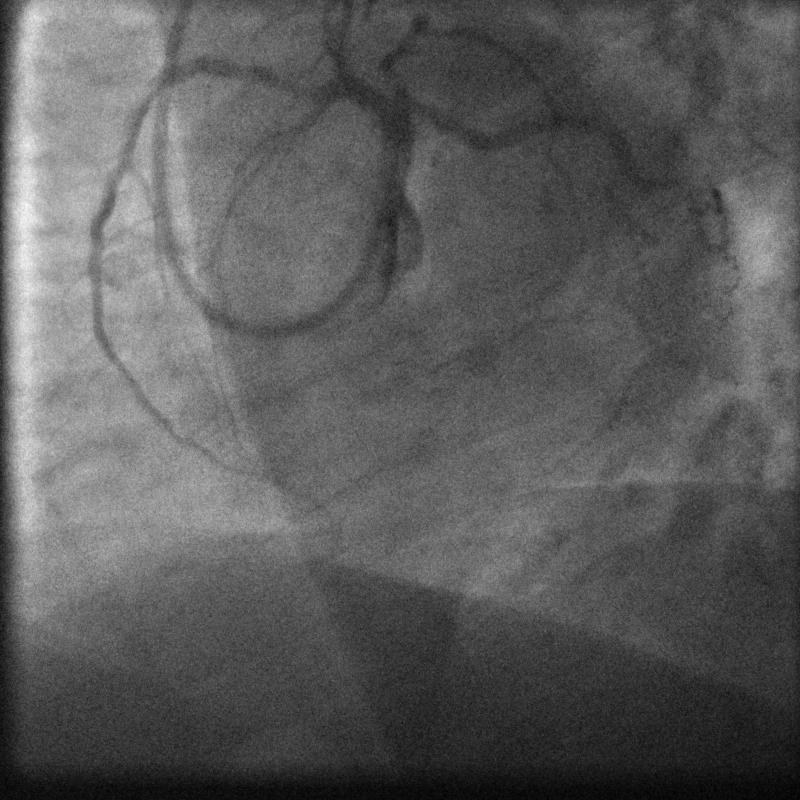Stenosis: (260, 63, 324, 105)
